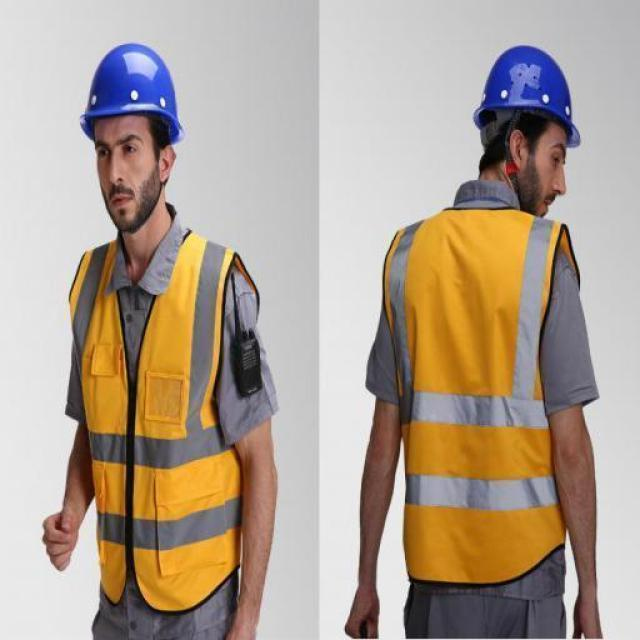vest: (81, 237, 239, 608), (398, 222, 562, 579)
